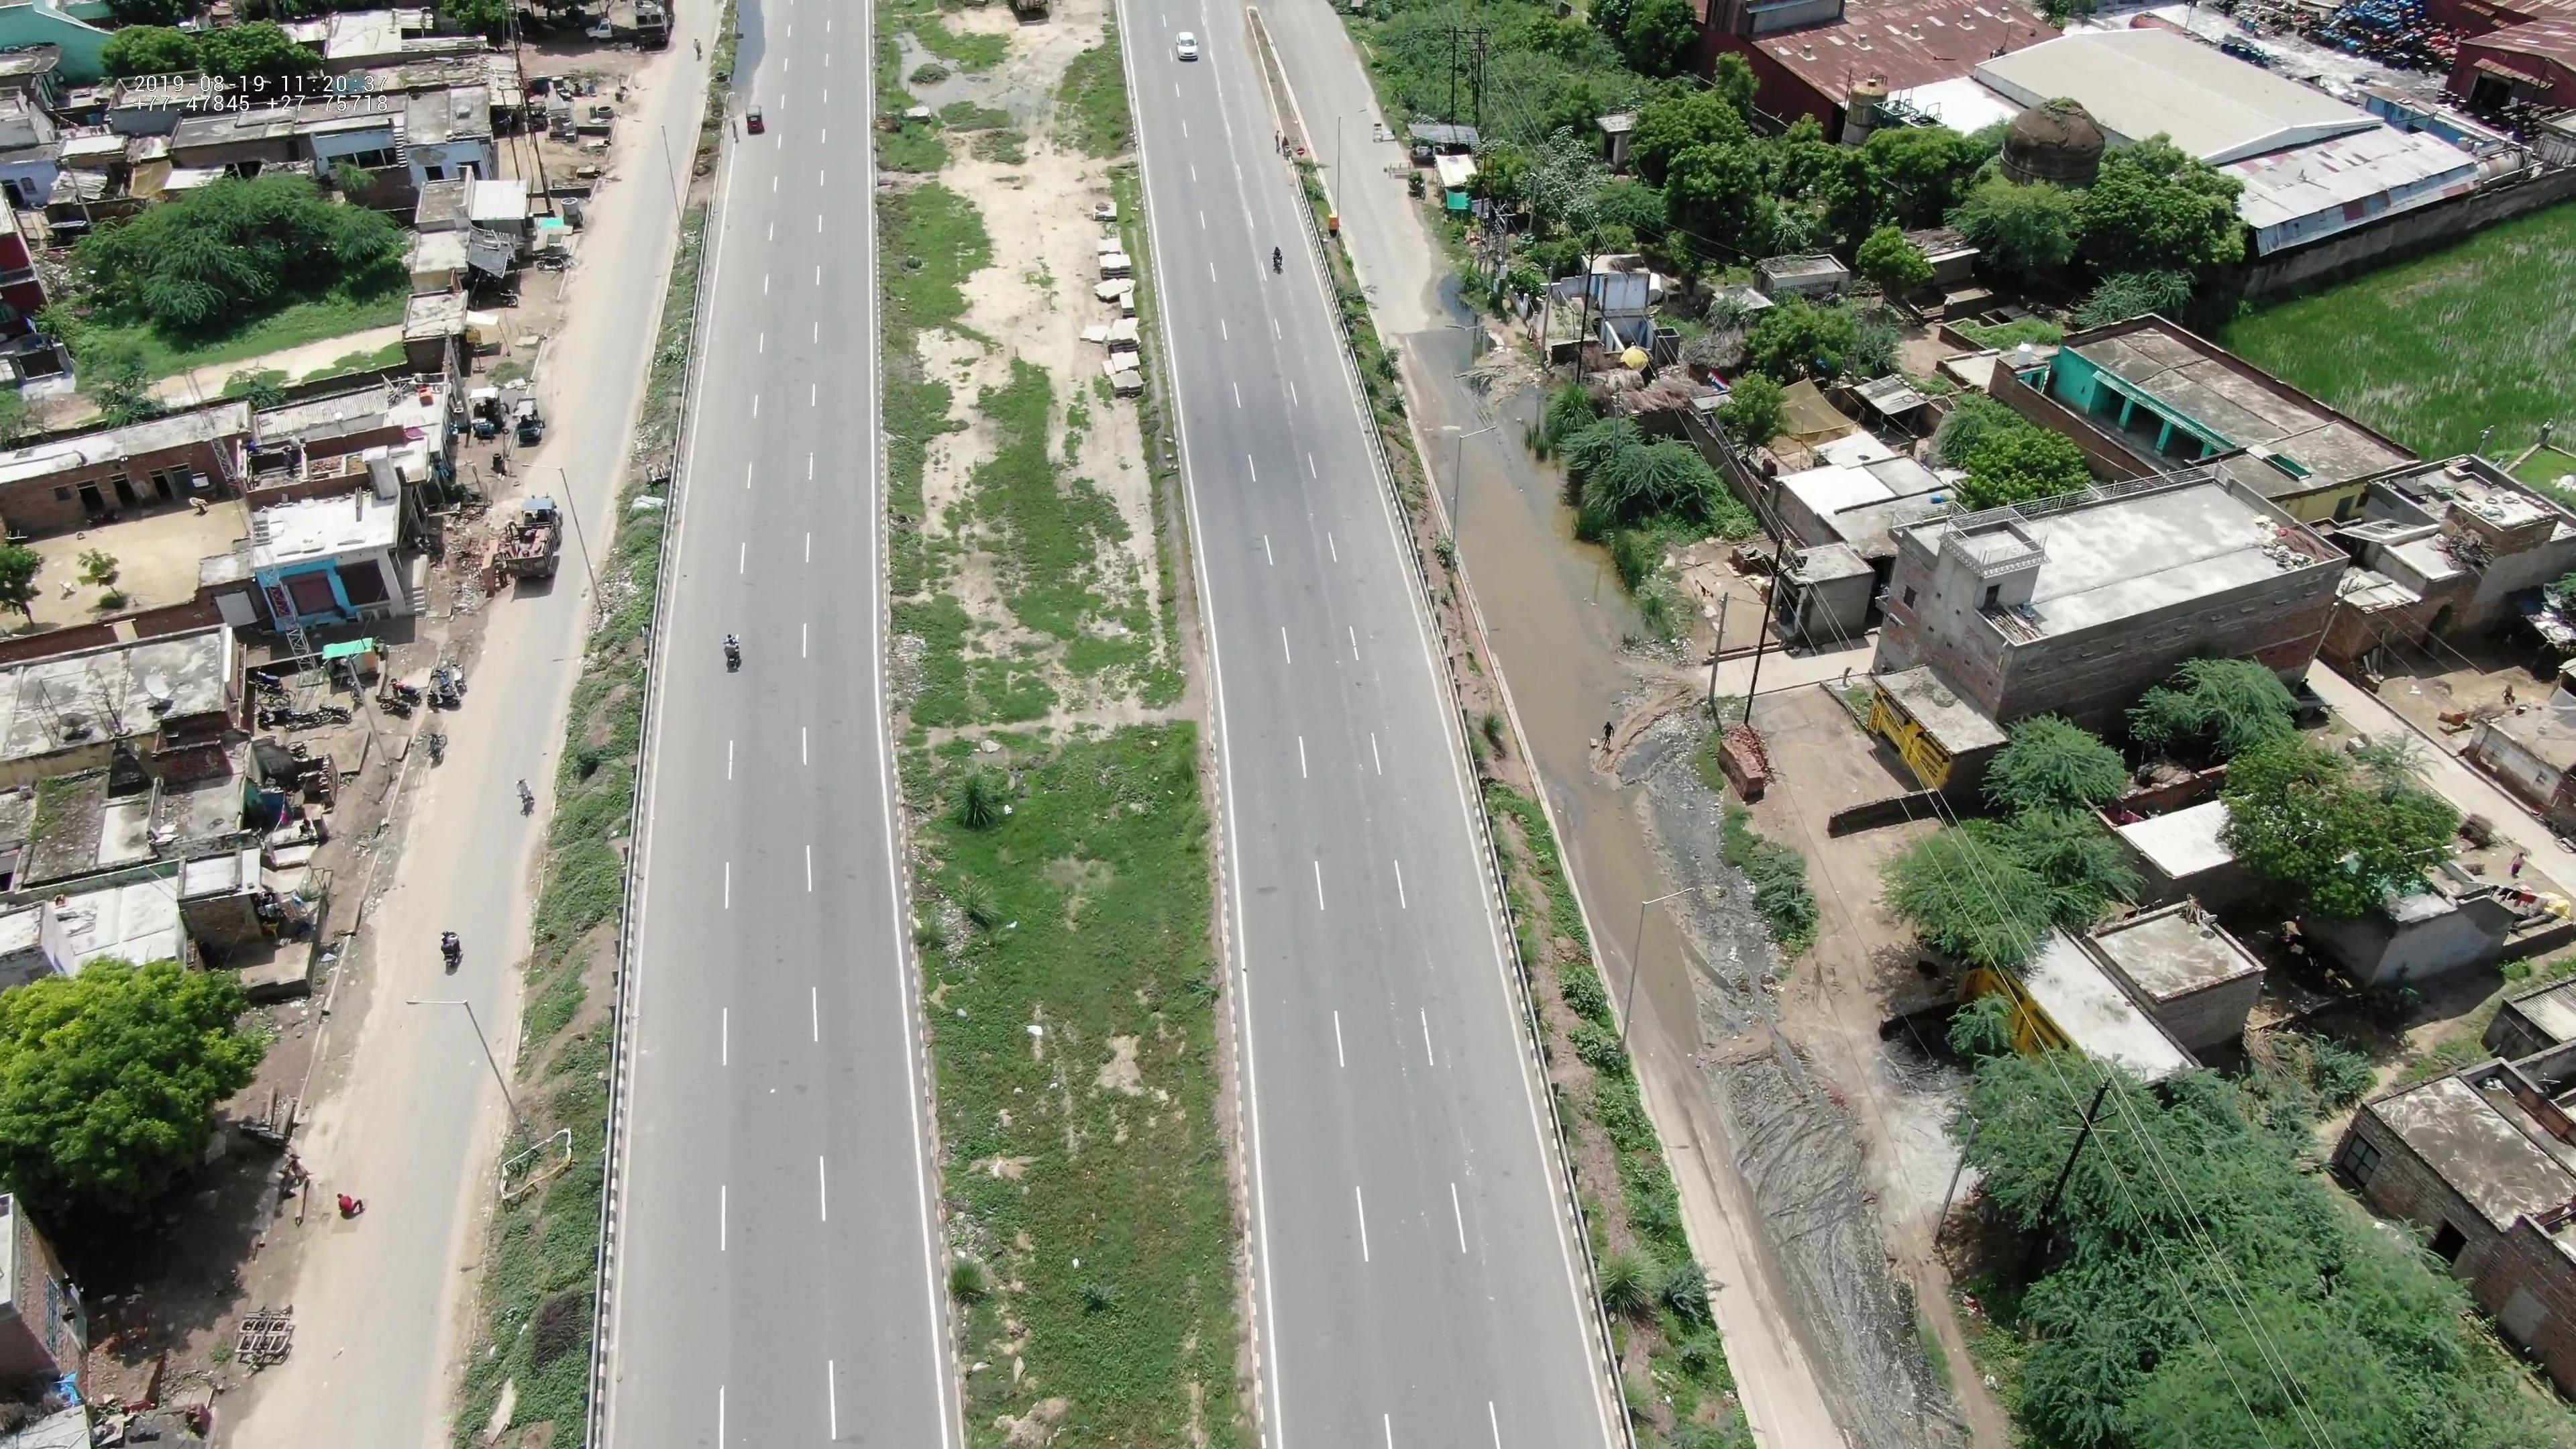Muddy_road: (1755, 1077, 1904, 1401)
Waterlogging: (1419, 364, 1690, 996)
